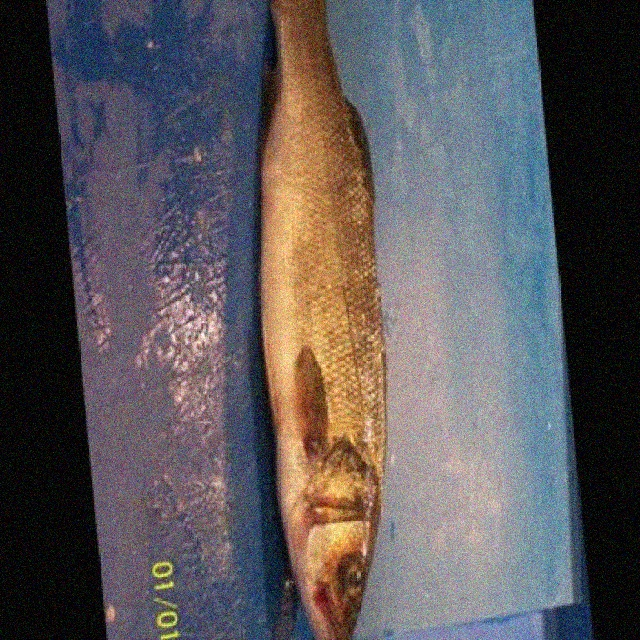Healthy Fish: (250, 0, 395, 640)
